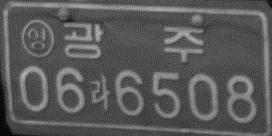0: (186, 72, 219, 122), (19, 65, 49, 112)
5: (151, 70, 181, 119)
6: (54, 66, 86, 114), (114, 69, 145, 117)
8: (225, 74, 257, 125)
광주_D: (63, 21, 204, 63)
라: (88, 74, 112, 111)
영: (20, 18, 54, 58)
